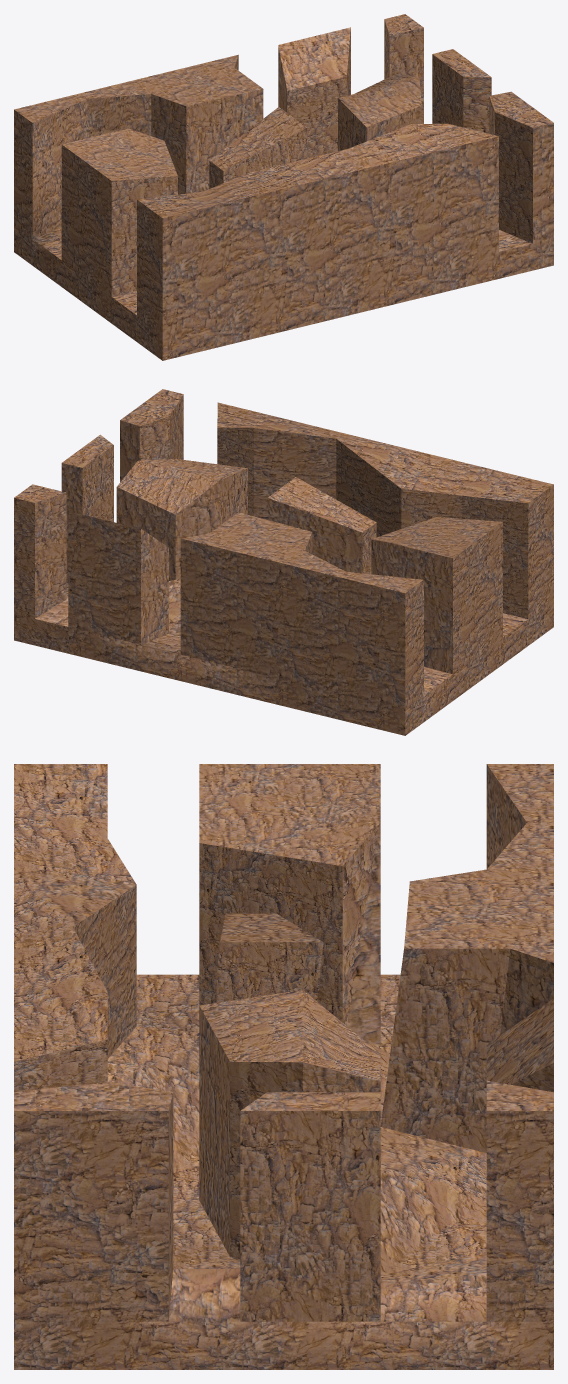
Rendered from Canyon2.fbx.
The picture shows the model from 3 angles, top to bottom: view 1: azimuth 30°, elevation 25°; view 2: azimuth 150°, elevation 25°; view 3: azimuth 270°, elevation 25°; orthographic projection. The views are drawn at different scales.
Visible parts, largest first — view 1: Canyon2; view 2: Canyon2; view 3: Canyon2.
Part boxes in pixels (x1,y1,x2,y2): Canyon2: [14, 14, 553, 360]; Canyon2: [14, 389, 553, 735]; Canyon2: [14, 764, 553, 1369].
Size of what is drawn, in the model's own units: 36.02 by 13.29 by 23.7.
Materials: 1 (1 with a texture image).
